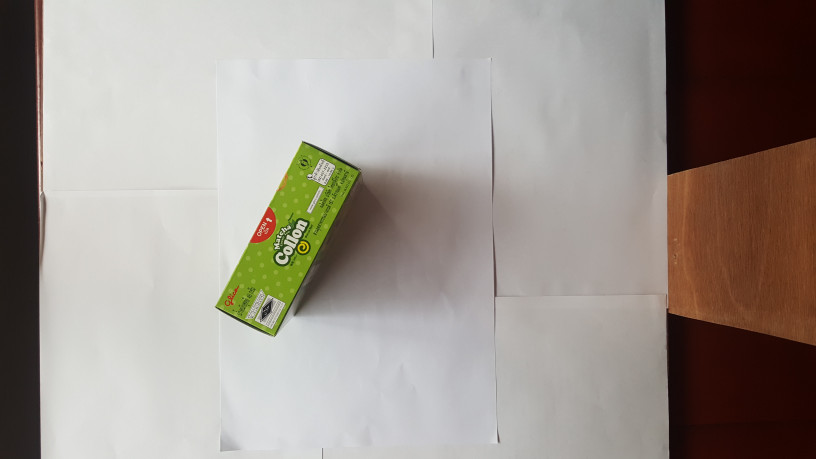collon-matcha: (211, 136, 364, 339)
